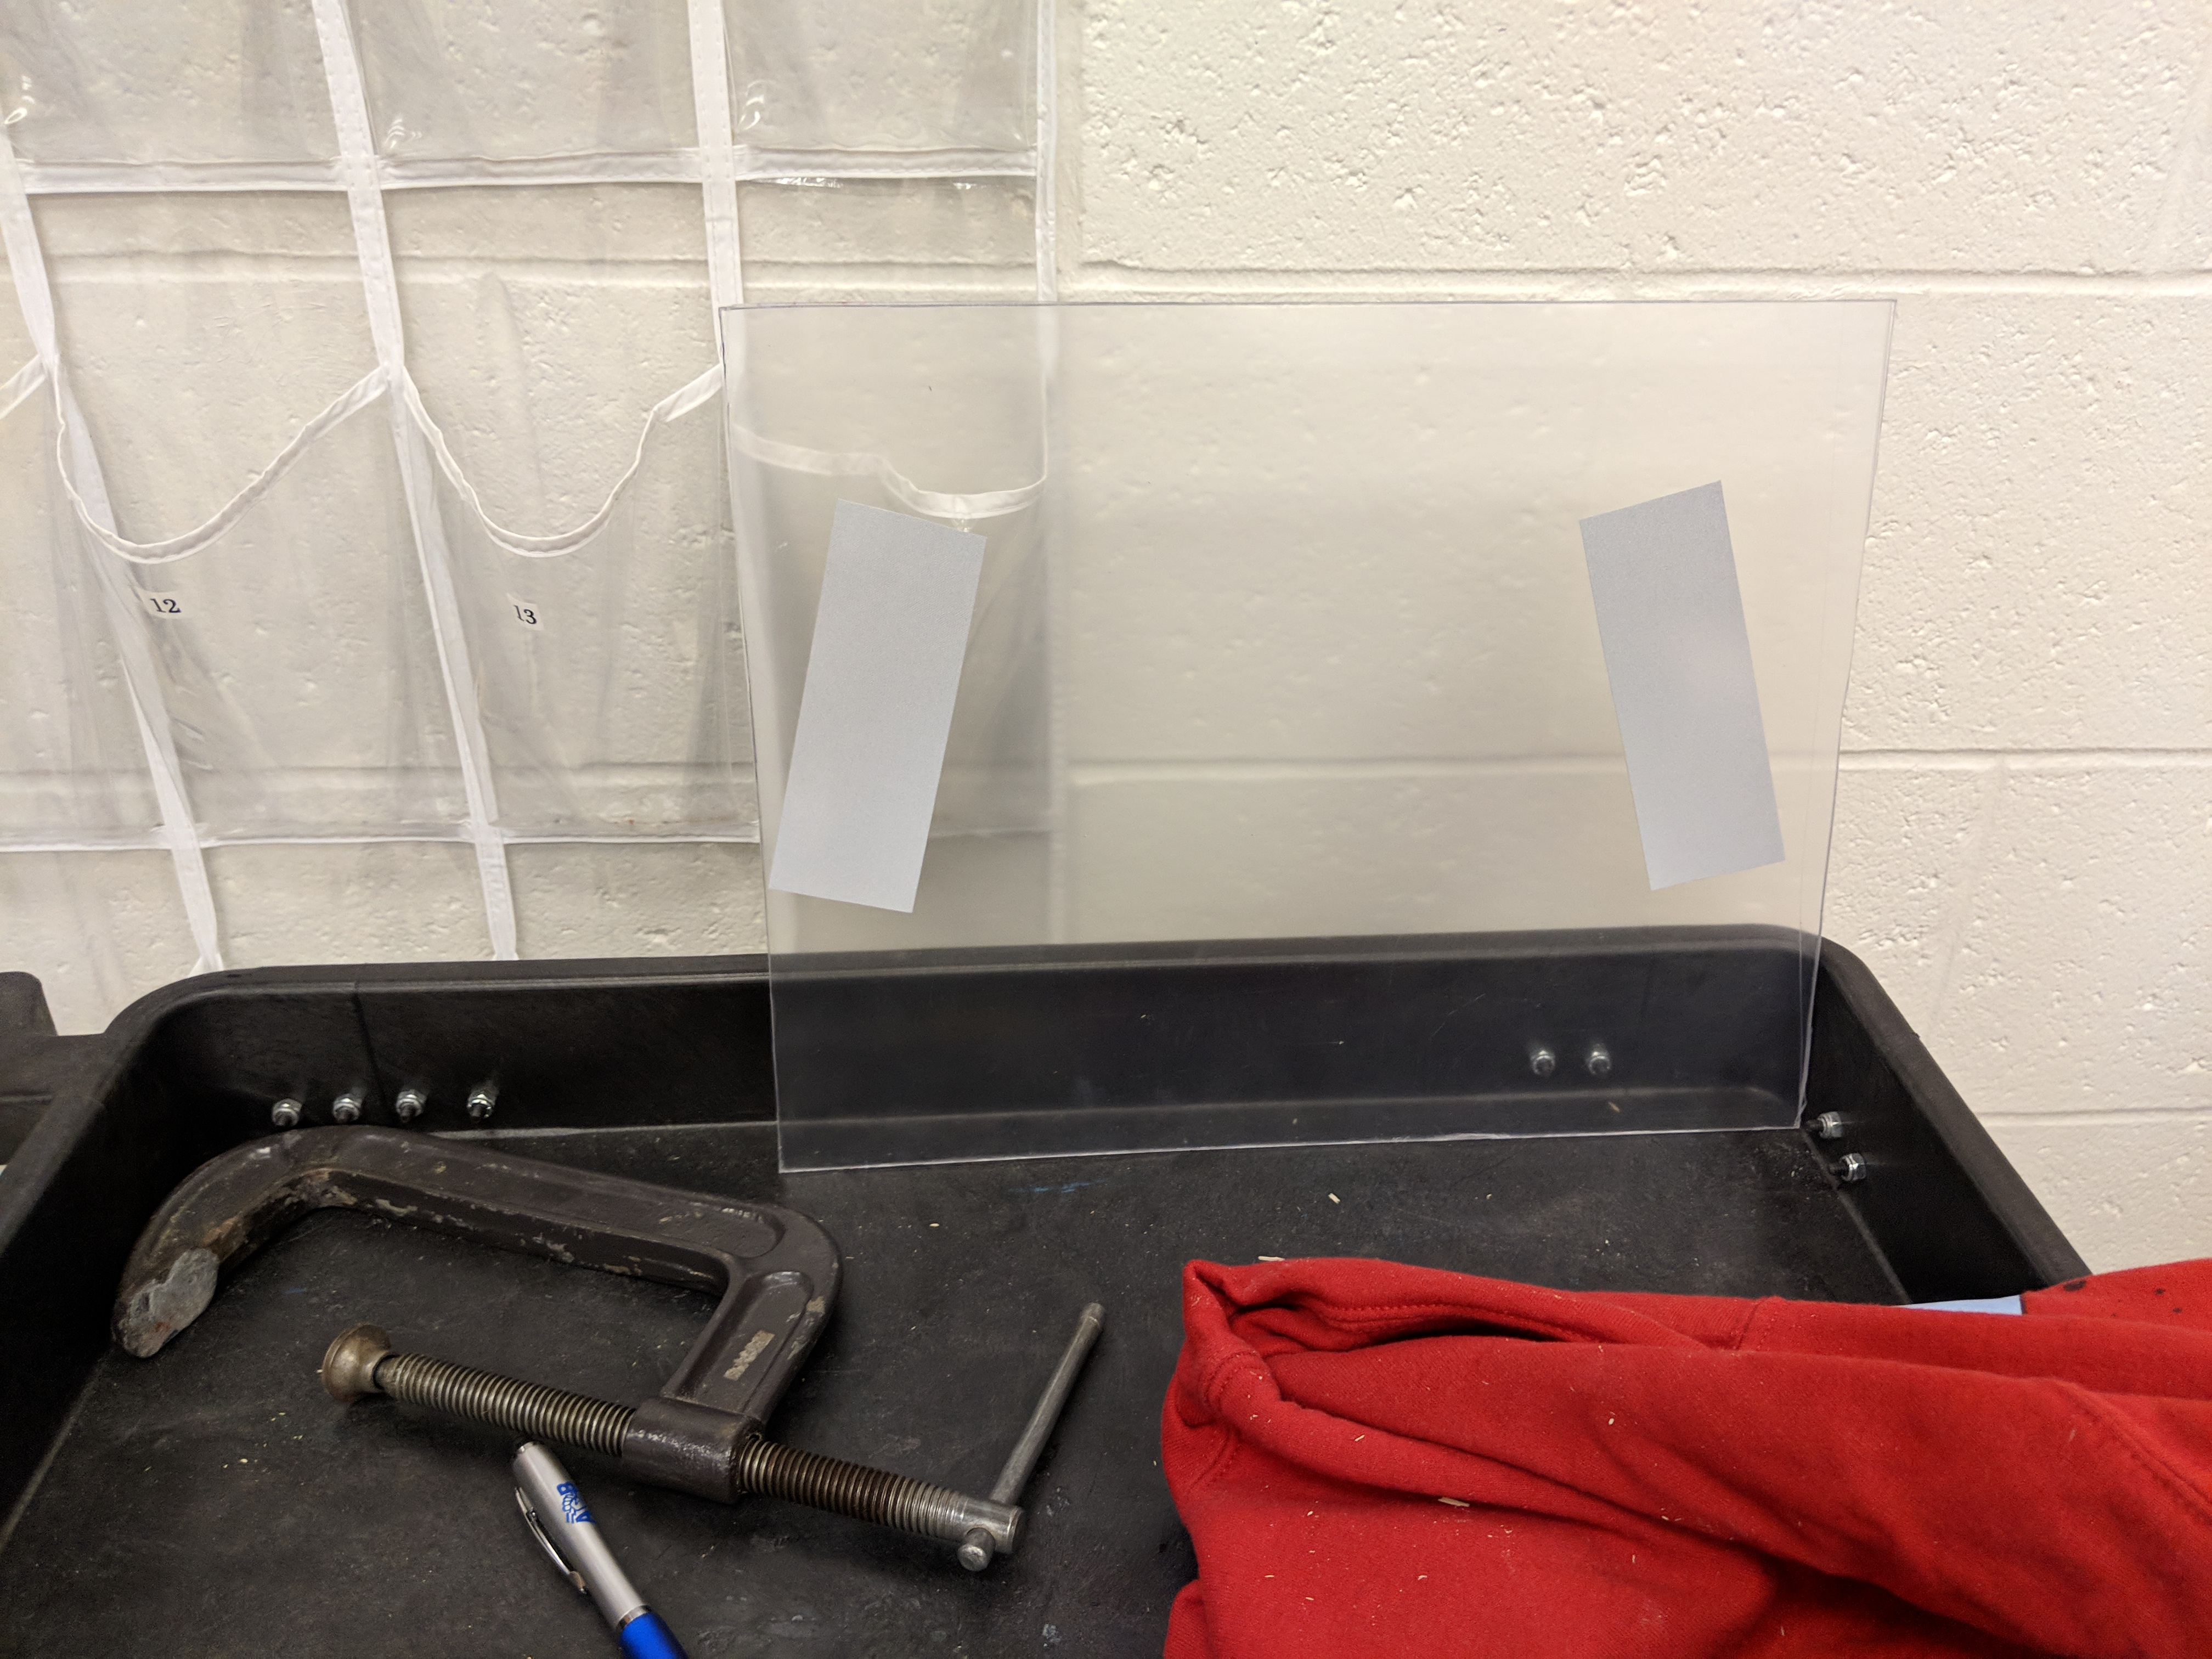vision_target: (754, 479, 1801, 932)
